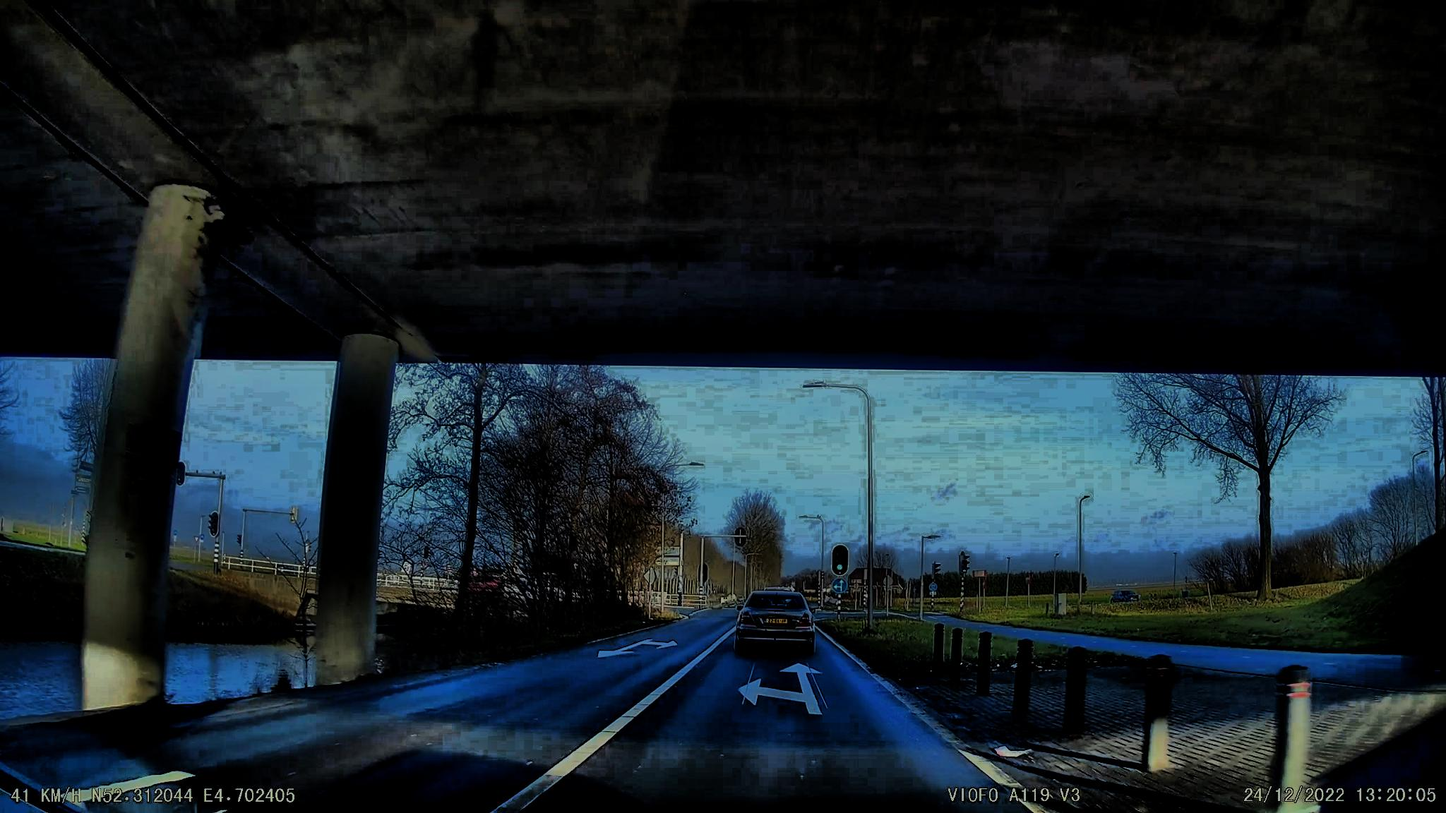Roads: (0, 613, 1043, 813)
